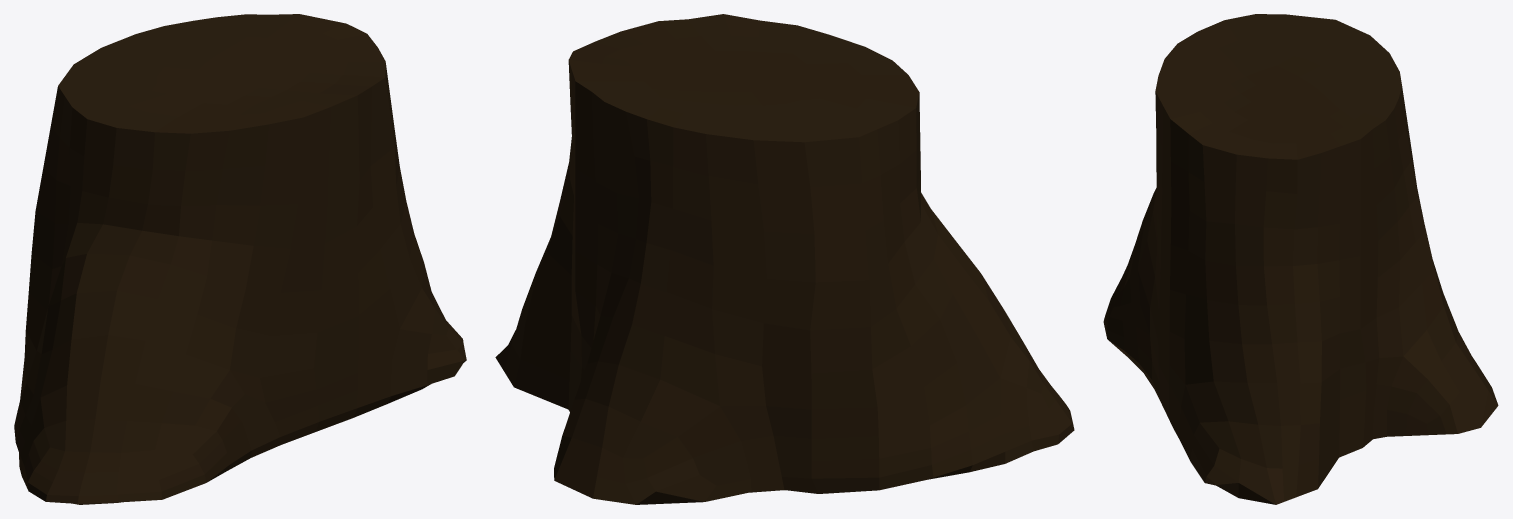
Rendered from TreeStump.glb.
The picture shows the model from 3 angles, left to right: view 1: azimuth 30°, elevation 25°; view 2: azimuth 150°, elevation 25°; view 3: azimuth 270°, elevation 25°; orthographic projection. The views are drawn at different scales.
Visible parts, largest first — view 1: Trunk; view 2: Trunk; view 3: Trunk.
Boxes of the visible parts, x1,y1,x2,y2 form: Trunk: (14,14,466,504); Trunk: (495,14,1074,504); Trunk: (1103,14,1498,504).
Bounding box in the file's own units: 9.82 × 6.34 × 7.22.
